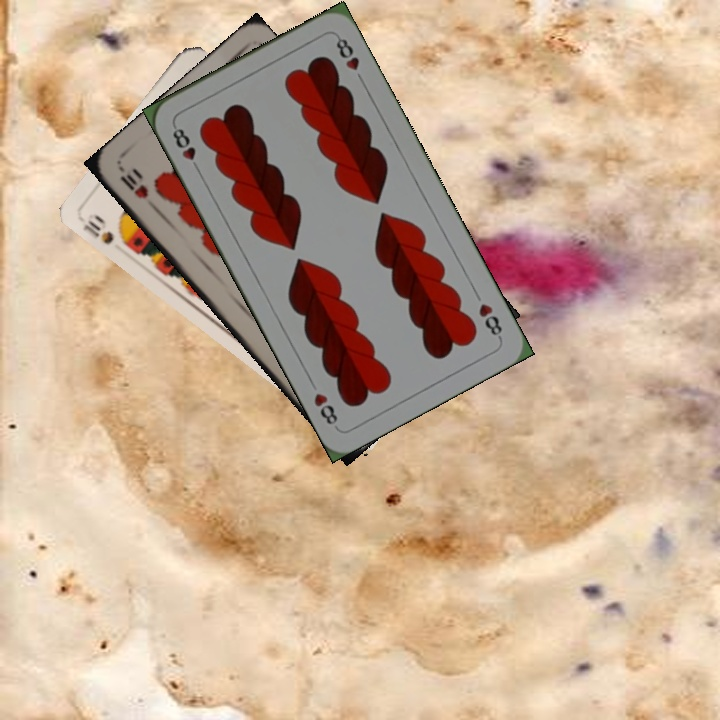H10: (116, 169, 151, 202)
H8: (168, 121, 203, 175), (474, 299, 505, 342)
S10: (79, 210, 132, 250)
